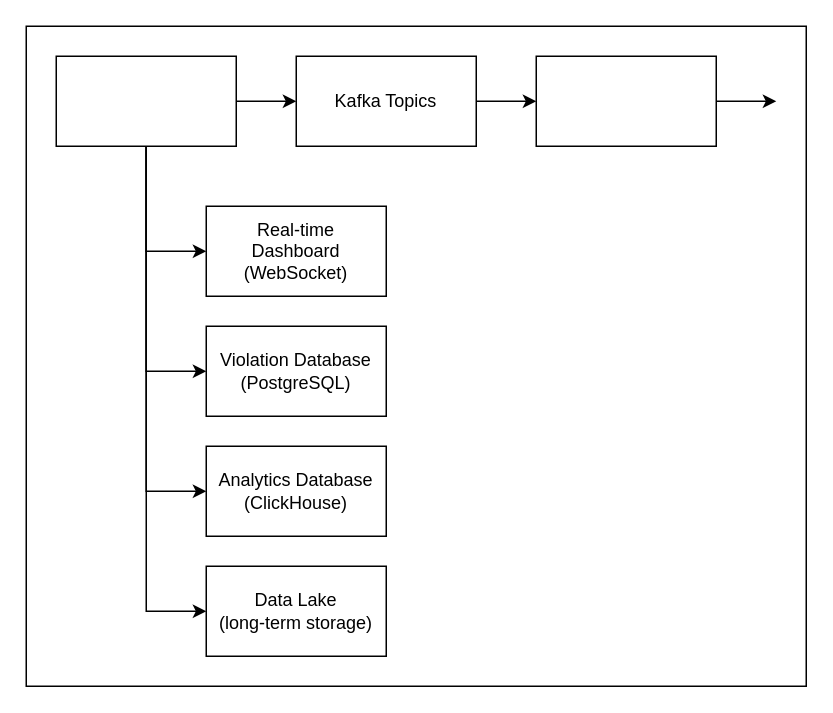
Image size: 833x713. Some labels were removed from this diagram. The shapes that lost their labels are listed below. From the top down, each one's centre as x and y in pixels, then its label:
At (145,100): "Edge Servers".
At (625,100): "Flink Stream Processing".
